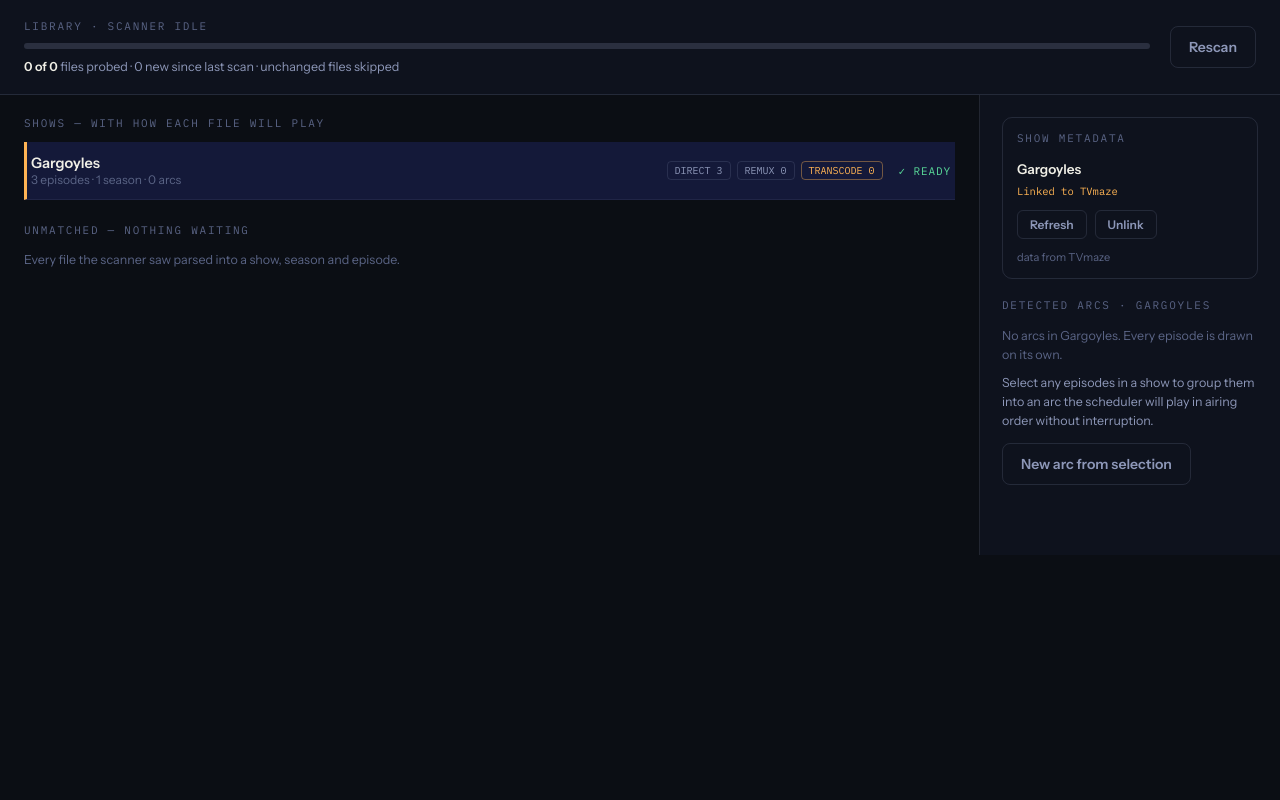
Test: a linked show › refreshes straight into a preview the user still has to apply
Click the button "Refresh" at [1052, 224], box [1017,210,1086,239]
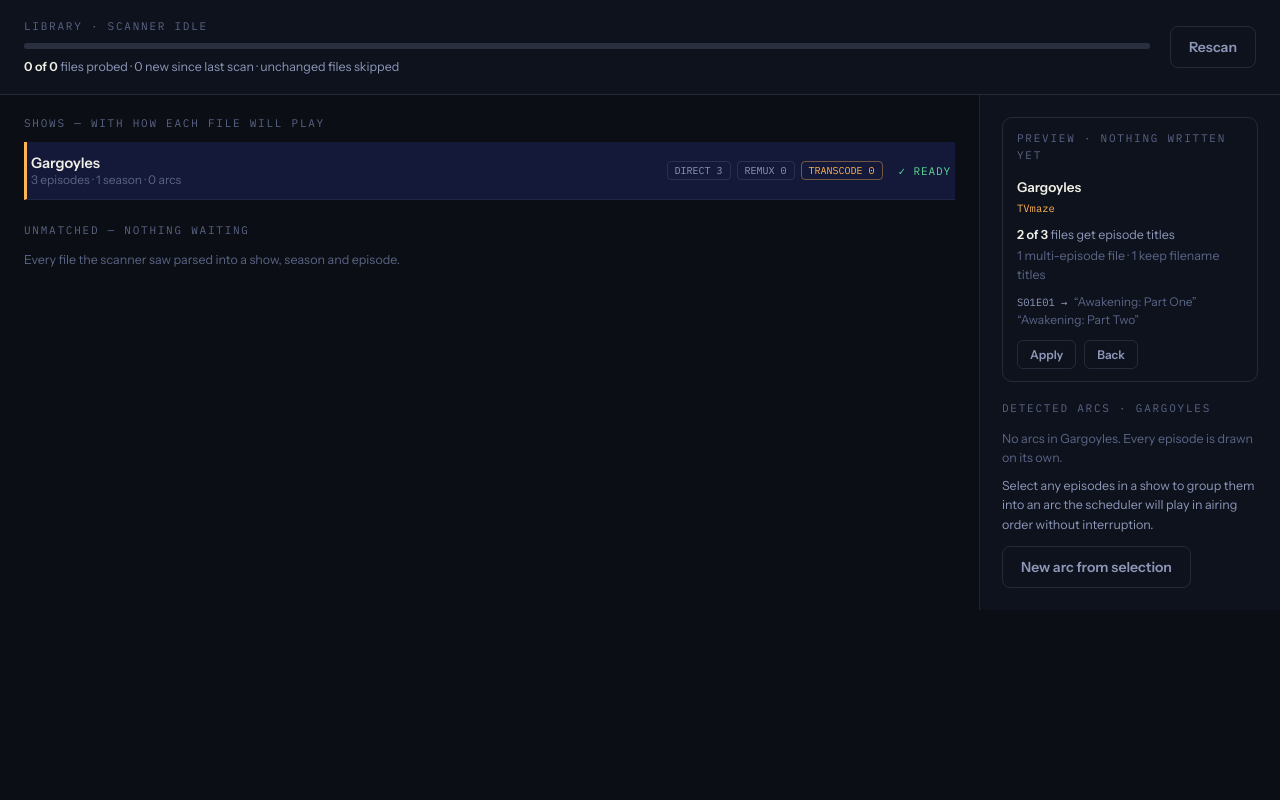
Check: the text "2 of 3" is shown, box [1017,227,1048,242]
